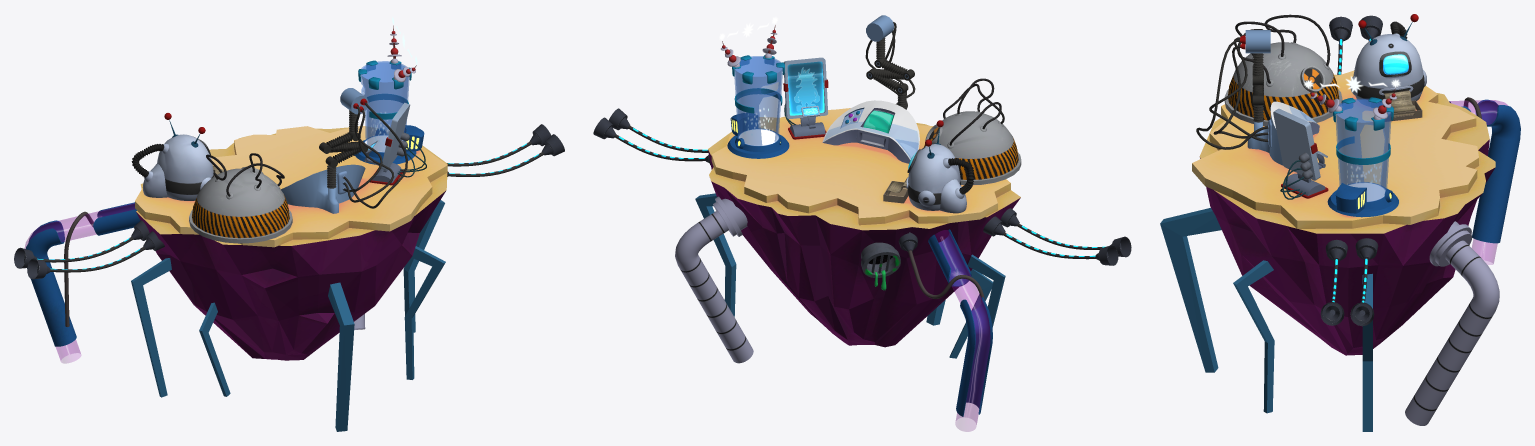
Rendered from island.glb.
3 views of the same model, side by side, from view 1: azimuth 30°, elevation 25°; view 2: azimuth 150°, elevation 25°; view 3: azimuth 270°, elevation 25° (orthographic). The views are drawn at different scales.
Parts seen in each view (by area): view 1: Object_20, Object_6, Object_12, Object_14, Object_13, Object_23, Object_7, Object_18, Object_25, Object_21, Object_16, Object_9 (+2 smaller); view 2: Object_20, Object_6, Object_7, Object_13, Object_14, Object_23, Object_25, Object_18, Object_9, Object_16, Object_21, Object_12 (+2 smaller); view 3: Object_20, Object_6, Object_7, Object_12, Object_14, Object_23, Object_13, Object_18, Object_25, Object_16, Object_21, Object_9 (+3 smaller).
Boxes of the visible parts, x1,y1,x2,y2 form: Object_20: (135, 127, 447, 360); Object_6: (135, 125, 447, 239); Object_12: (131, 200, 445, 431); Object_14: (189, 153, 292, 243); Object_13: (281, 88, 407, 213); Object_23: (131, 113, 224, 200); Object_7: (26, 202, 365, 346); Object_18: (360, 61, 409, 151); Object_25: (354, 25, 424, 164); Object_21: (14, 124, 564, 279); Object_16: (364, 102, 426, 185); Object_9: (24, 203, 134, 362); Object_20: (708, 116, 1020, 347); Object_6: (712, 108, 1010, 218); Object_7: (675, 196, 992, 416); Object_13: (822, 15, 919, 163); Object_14: (924, 78, 1021, 184); Object_23: (886, 120, 974, 213); Object_25: (721, 25, 789, 158); Object_18: (734, 56, 782, 145); Object_9: (935, 230, 990, 431); Object_16: (783, 57, 828, 139); Object_21: (593, 108, 1131, 277); Object_12: (695, 193, 1005, 358); Object_20: (1192, 74, 1495, 355); Object_6: (1192, 70, 1478, 220); Object_7: (1405, 99, 1520, 425); Object_12: (1160, 208, 1372, 431); Object_14: (1224, 14, 1342, 126); Object_23: (1350, 14, 1426, 114); Object_13: (1196, 30, 1319, 165); Object_18: (1335, 98, 1391, 201); Object_25: (1308, 88, 1398, 217); Object_16: (1273, 108, 1328, 199); Object_21: (1320, 15, 1382, 326); Object_9: (1449, 100, 1507, 264).
Size of the model in its own units: 20.81 by 12.1 by 10.8.
17 materials, 11 textured.
